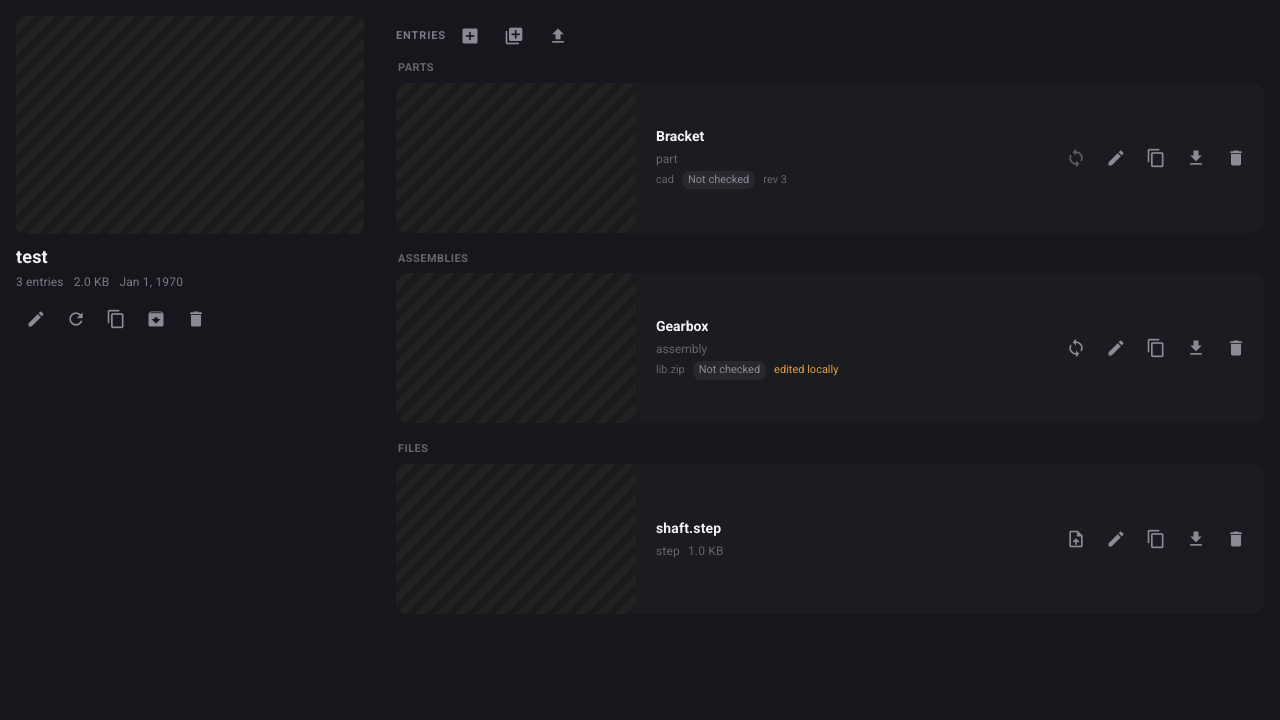
Test: WorkspaceView origins › says when a pull could not reach the source
Expected: the text "Gearbox" is shown, top-left (656, 316), bottom-right (708, 337)
Click the button named "Update Gearbox".
click(1076, 348)  # box top-left (1056, 328), bottom-right (1096, 368)
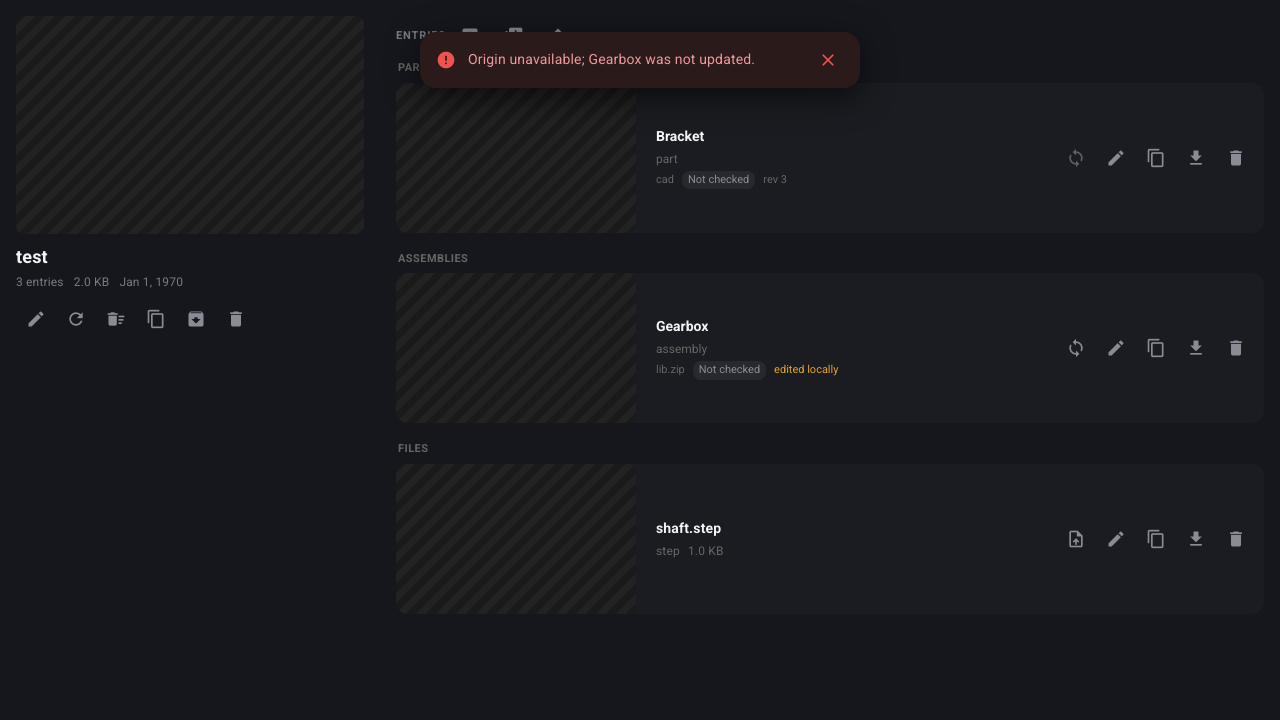
Now the text "Origin unavailable; Gearbox was not updated." is shown, box top-left (468, 50), bottom-right (800, 70)
